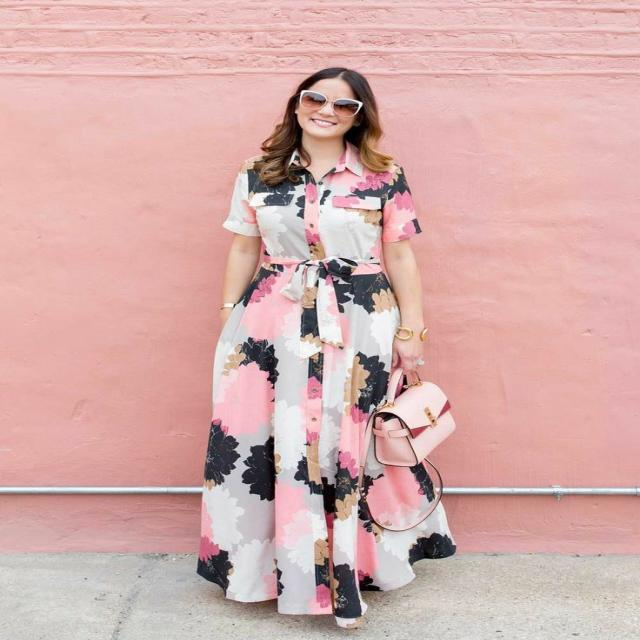female-dress: (200, 157, 458, 620)
